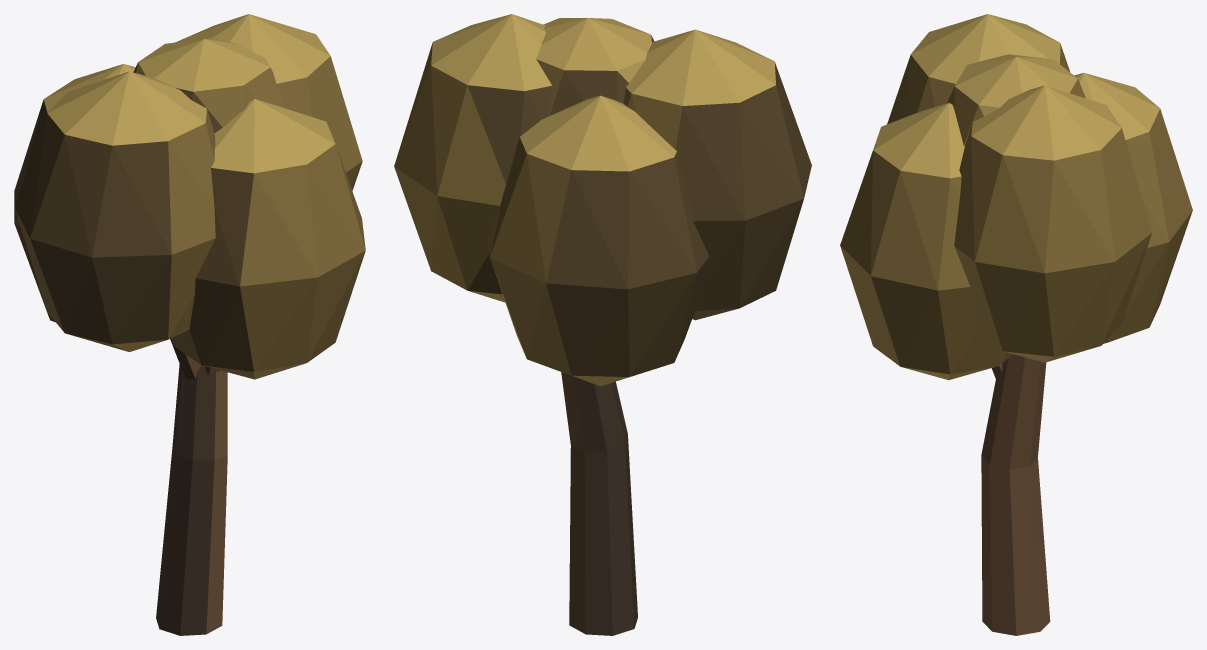
Rendered from TW_TREE_ROUND_SMALL_B_LOD0.glb.
3 views of the same model, side by side, from view 1: azimuth 30°, elevation 25°; view 2: azimuth 150°, elevation 25°; view 3: azimuth 270°, elevation 25° (orthographic). The views are drawn at different scales.
Visible parts, largest first — view 1: TW_TREE_ROUND_SMALL_B_LOD0; view 2: TW_TREE_ROUND_SMALL_B_LOD0; view 3: TW_TREE_ROUND_SMALL_B_LOD0.
Boxes of the visible parts, box(x1,y1,x2,y2) form: TW_TREE_ROUND_SMALL_B_LOD0: box(14, 14, 365, 635); TW_TREE_ROUND_SMALL_B_LOD0: box(394, 14, 811, 635); TW_TREE_ROUND_SMALL_B_LOD0: box(840, 14, 1192, 635).
Size of the model in its own units: 2.1 by 3.3 by 1.85.
1 material, 1 textured.
